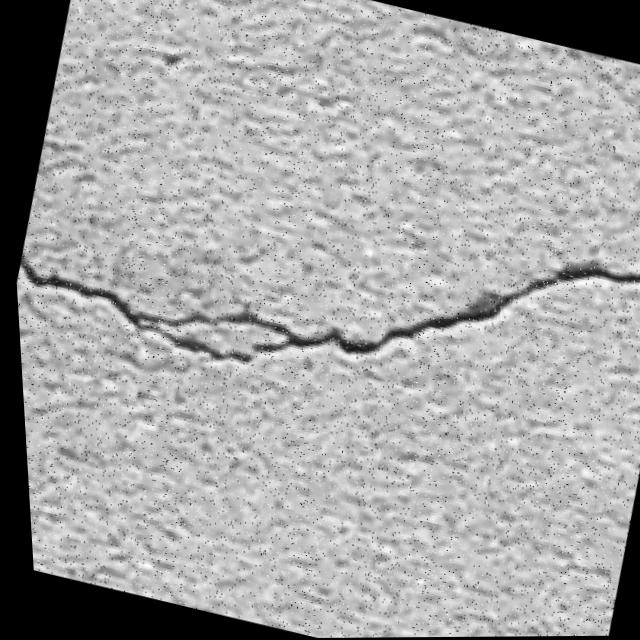Crack: (5, 113, 640, 472)
